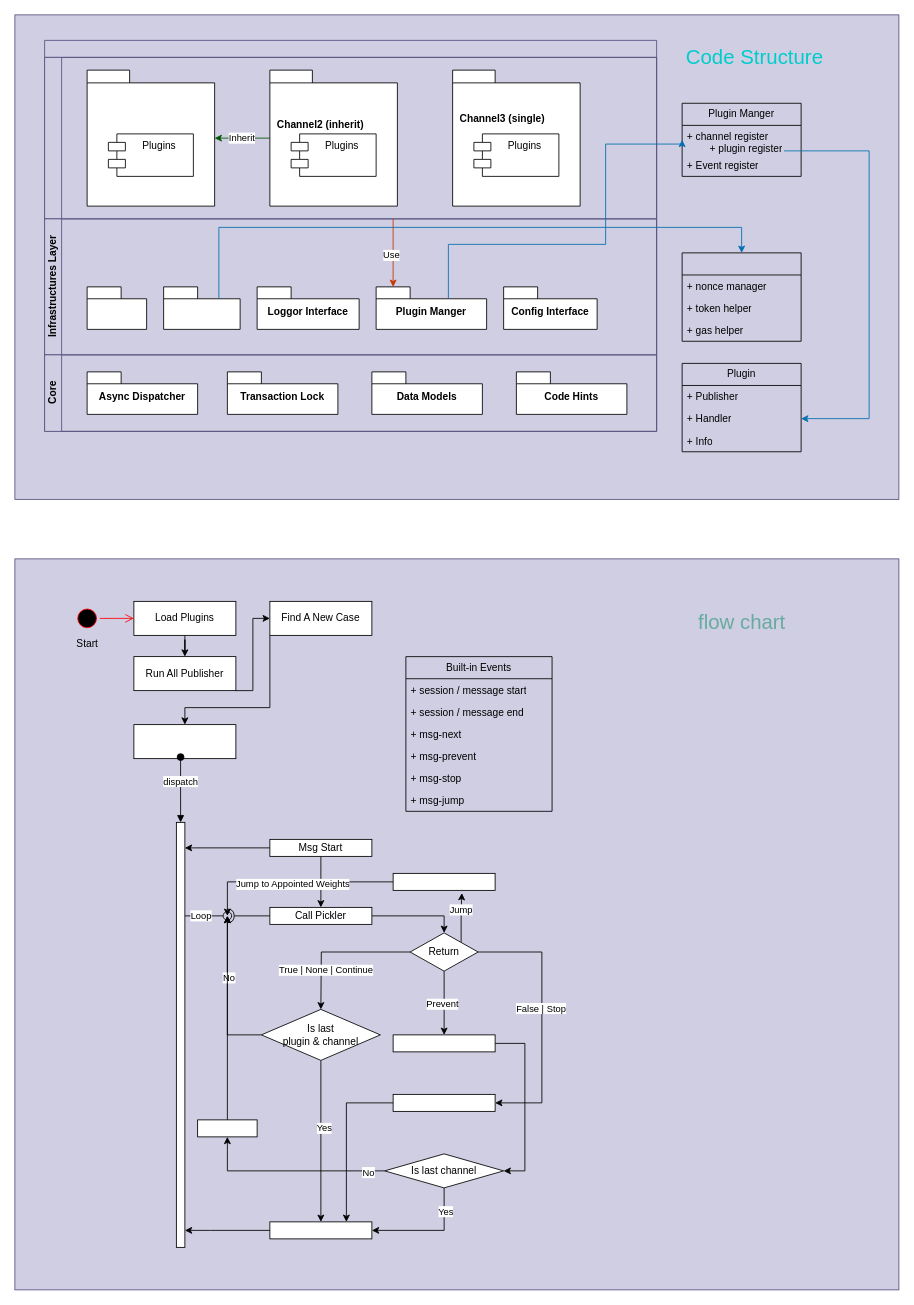
Some shapes in this 914 by 1305 pixel diagram are drawn without their labels. Here are the shapes that lost their labels. From the top down, the box of each, then its label:
(86, 69, 215, 206): Channel1(Base)
(44, 57, 657, 219): Plugin Layer
(44, 40, 657, 431): Layer Relationship
(86, 286, 147, 329): Database
(163, 286, 240, 329): WEB3 API
(681, 252, 801, 341): web3 API (eth)
(133, 724, 236, 759): Dispatch Message
(392, 873, 495, 890): Msg Junp
(392, 1034, 495, 1052): Msg prevent
(392, 1094, 495, 1111): Msg Stop
(197, 1119, 257, 1137): skip channel
(269, 1221, 372, 1239): Msg End
